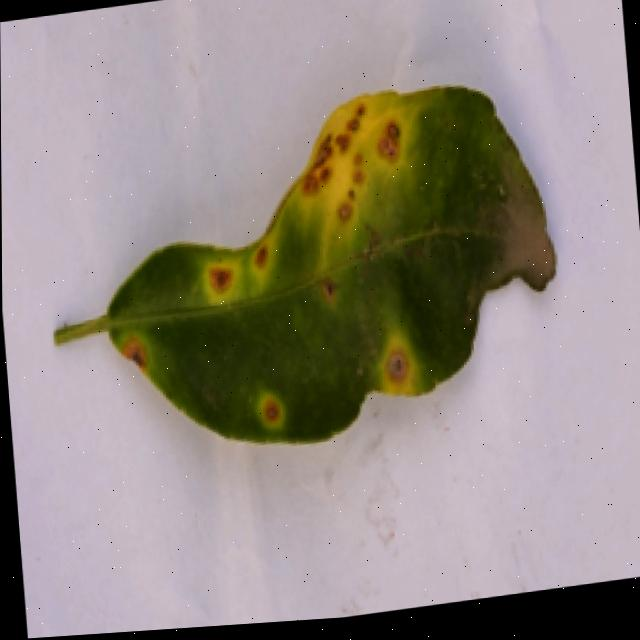canker: (58, 88, 552, 444), (283, 78, 429, 267), (184, 217, 274, 309), (361, 339, 428, 413), (107, 311, 158, 385), (243, 383, 300, 435)
